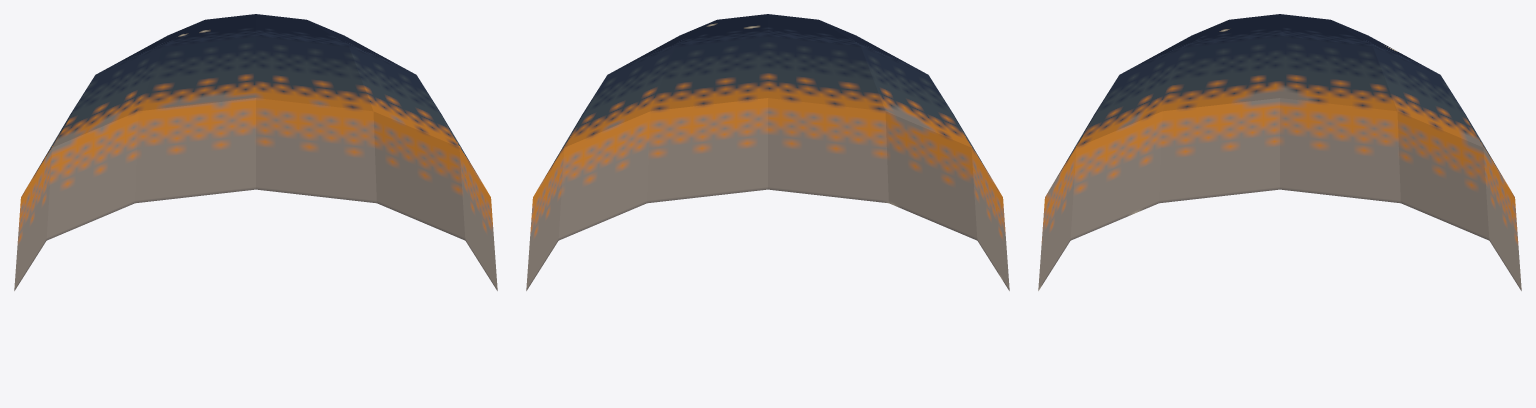
File: sky.backdrop.glb
3 views of the same model, side by side, from view 1: azimuth 30°, elevation 25°; view 2: azimuth 150°, elevation 25°; view 3: azimuth 270°, elevation 25° (orthographic).
Parts seen in each view (by area): view 1: kit_shell_sky; view 2: kit_shell_sky; view 3: kit_shell_sky.
Part boxes in pixels (x1,y1,x2,y2): kit_shell_sky: [14, 14, 497, 290]; kit_shell_sky: [526, 14, 1009, 290]; kit_shell_sky: [1038, 14, 1521, 290].
Bounding box in the file's own units: 791 × 460 × 791.
1 material, 1 textured.
